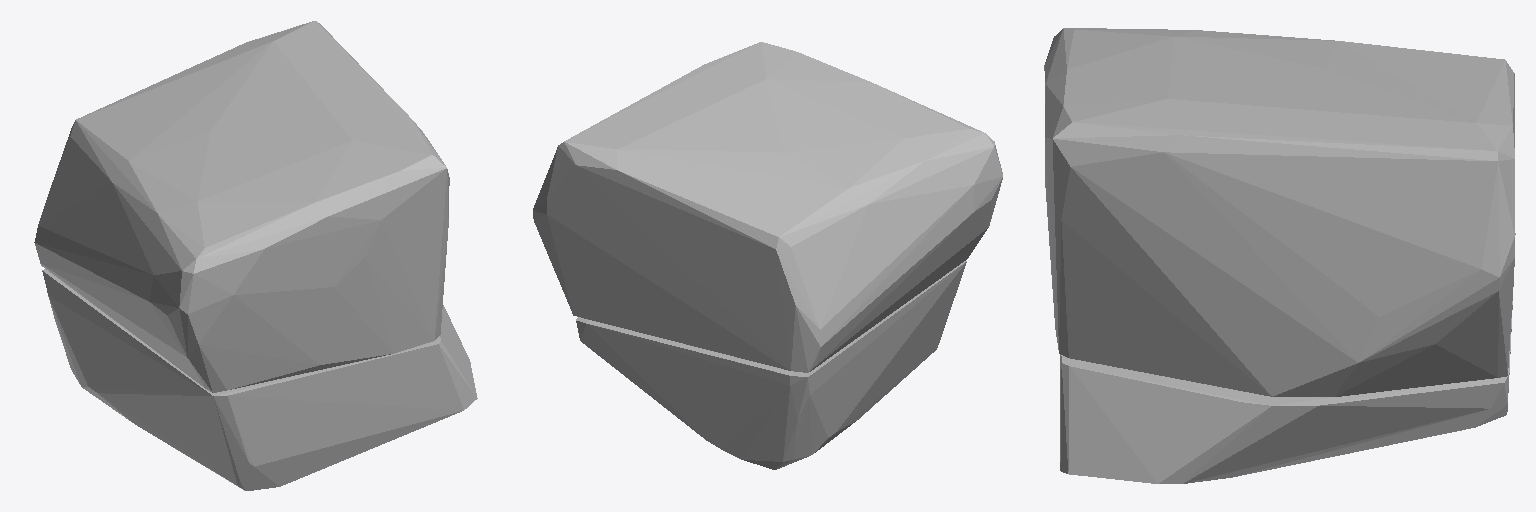
URDF robot description (root):
<robot name="root">
  <link name="link_rock1_convex_piece_0">
    <inertial>
      <origin rpy="0 0 0" xyz="0 0 0"/>
      <mass value="3.98E+05"/>
      <inertia ixx="-1.72E+10" ixy="2.82E+08" ixz="3.98E+09" iyy="-1.69E+10" iyz="4.27E+09" izz="1.42E+09"/>
    </inertial>
    <visual>
      <origin rpy="0 0 0" xyz="0 0 0"/>
      <geometry>
        <mesh filename="rock1_convex_piece_0.obj" scale="1.0000E+00 1.0000E+00 1.0000E+00"/>
      </geometry>
      <material name="">
        <color rgba="7.50E-01 7.50E-01 7.50E-01 1"/>
      </material>
    </visual>
    <collision>
      <origin rpy="0 0 0" xyz="0 0 0"/>
      <geometry>
        <mesh filename="rock1_convex_piece_0.obj" scale="1.0000E+00 1.0000E+00 1.0000E+00"/>
      </geometry>
    </collision>
  </link>
  <link name="link_rock1_convex_piece_1">
    <inertial>
      <origin rpy="0 0 0" xyz="0 0 0"/>
      <mass value="8.24E+05"/>
      <inertia ixx="1.80E+10" ixy="-3.96E+08" ixz="-3.28E+09" iyy="1.74E+10" iyz="-3.67E+09" izz="7.92E+08"/>
    </inertial>
    <visual>
      <origin rpy="0 0 0" xyz="0 0 0"/>
      <geometry>
        <mesh filename="rock1_convex_piece_1.obj" scale="1.0000E+00 1.0000E+00 1.0000E+00"/>
      </geometry>
      <material name="">
        <color rgba="7.50E-01 7.50E-01 7.50E-01 1"/>
      </material>
    </visual>
    <collision>
      <origin rpy="0 0 0" xyz="0 0 0"/>
      <geometry>
        <mesh filename="rock1_convex_piece_1.obj" scale="1.0000E+00 1.0000E+00 1.0000E+00"/>
      </geometry>
    </collision>
  </link>
  <joint name="link_rock1_convex_piece_1_joint" type="fixed">
    <origin rpy="0 0 0" xyz="0 0 0"/>
    <parent link="link_rock1_convex_piece_0"/>
    <child link="link_rock1_convex_piece_1"/>
  </joint>
</robot>

--- Facts derived from the render (not from the file) ---
Views: 3 orthographic renders of the robot side by side, from view 1: azimuth 30°, elevation 25°; view 2: azimuth 150°, elevation 25°; view 3: azimuth 270°, elevation 25°.
Model root with 2 links and 1 joints (1 fixed), rooted at link_rock1_convex_piece_0, posed every joint at zero.
Visible links, largest first — view 1: link_rock1_convex_piece_1, link_rock1_convex_piece_0; view 2: link_rock1_convex_piece_1, link_rock1_convex_piece_0; view 3: link_rock1_convex_piece_1, link_rock1_convex_piece_0.
Boxes of the visible links, x1=… form: link_rock1_convex_piece_1: x1=34, y1=21, x2=449, y2=392; link_rock1_convex_piece_0: x1=42, y1=269, x2=477, y2=490; link_rock1_convex_piece_1: x1=533, y1=42, x2=1002, y2=372; link_rock1_convex_piece_0: x1=576, y1=261, x2=966, y2=469; link_rock1_convex_piece_1: x1=1044, y1=28, x2=1514, y2=396; link_rock1_convex_piece_0: x1=1060, y1=233, x2=1515, y2=483.
Bounding box of the posed robot: 135 × 126 × 114 m (x, y, z).
Meshes: 2 distinct files referenced, 2 mesh visuals loaded (2 OBJ).